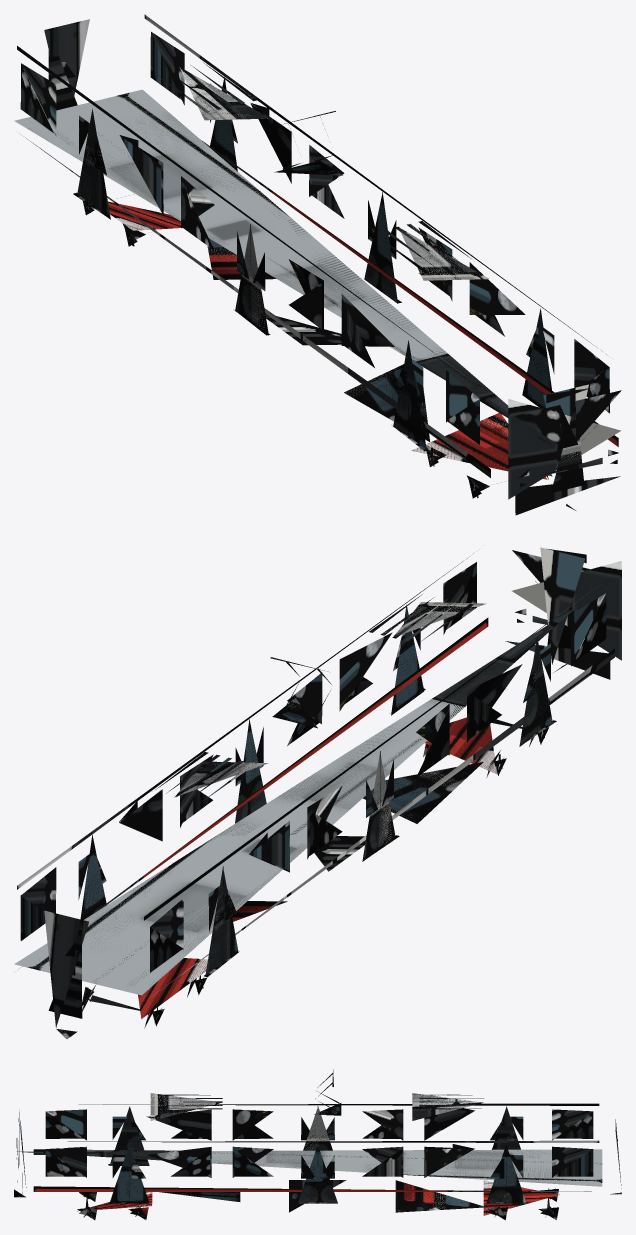
Rendered from regional_cab.lod2.obj.
3 views of the same model, one above another, from view 1: azimuth 30°, elevation 25°; view 2: azimuth 150°, elevation 25°; view 3: azimuth 270°, elevation 25° (orthographic). The views are drawn at different scales.
Parts seen in each view (by area): view 1: regional_cab; view 2: regional_cab; view 3: regional_cab.
Part boxes in pixels (left/top/right/bottom): regional_cab: left=14, top=14, right=621, bottom=515; regional_cab: left=14, top=547, right=621, bottom=1039; regional_cab: left=14, top=1069, right=621, bottom=1220.
Size of the model in its own units: 3.08 by 4.83 by 20.
1 material, 1 textured.
